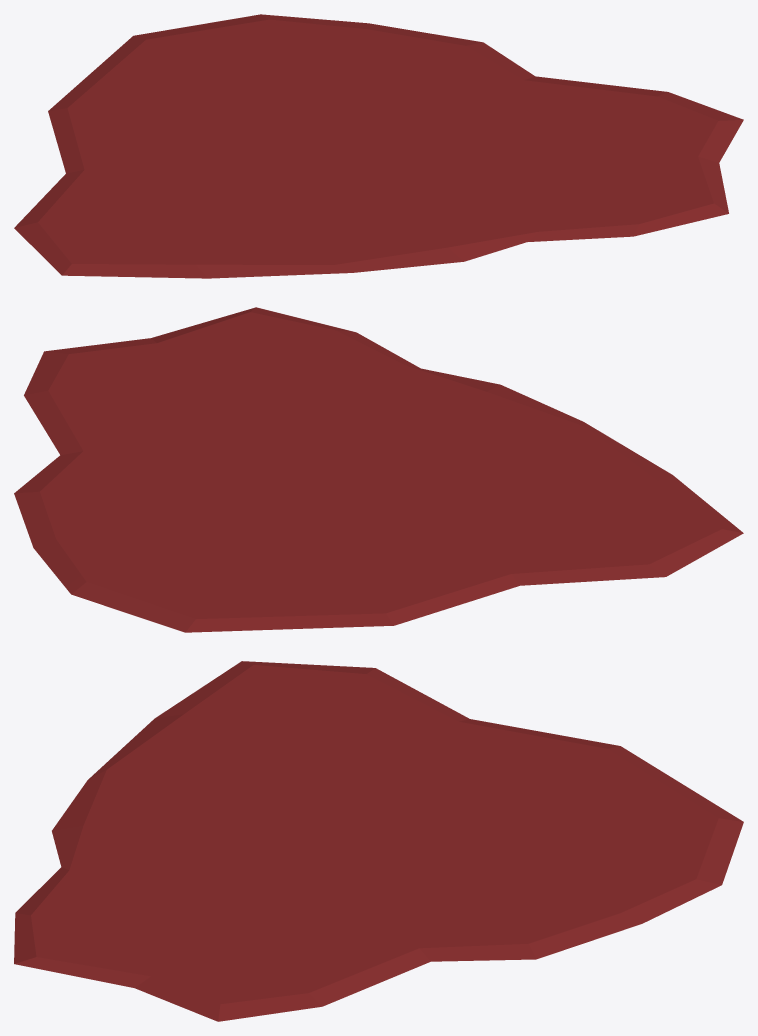
Rendered from apocalypse_blood-e.fbx.
3 views of the same model, one above another, from view 1: azimuth 30°, elevation 25°; view 2: azimuth 150°, elevation 25°; view 3: azimuth 270°, elevation 25° (orthographic). The views are drawn at different scales.
Visible parts, largest first — view 1: apocalypse_blood_e; view 2: apocalypse_blood_e; view 3: apocalypse_blood_e.
Boxes of the visible parts, <box> form: apocalypse_blood_e: <box>14,14,743,278</box>; apocalypse_blood_e: <box>14,307,743,632</box>; apocalypse_blood_e: <box>14,661,743,1021</box>.
Size of the model in its own units: 200 by 1.16 by 171.
